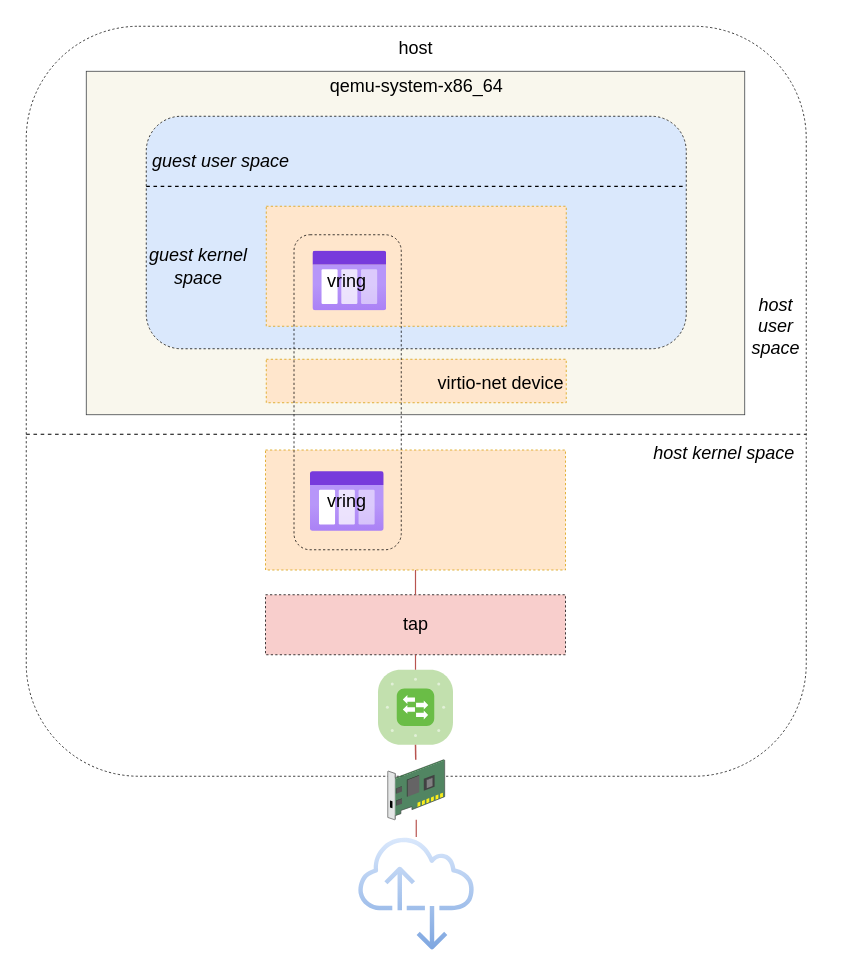
The diagram is 849 pixels wide and 978 high, and some of its shapes have lost their labels. Each missing label, with the centre of its shape:
"vhost-net" belongs at (x=414, y=509).
"virtio-net driver" belongs at (x=415, y=265).
